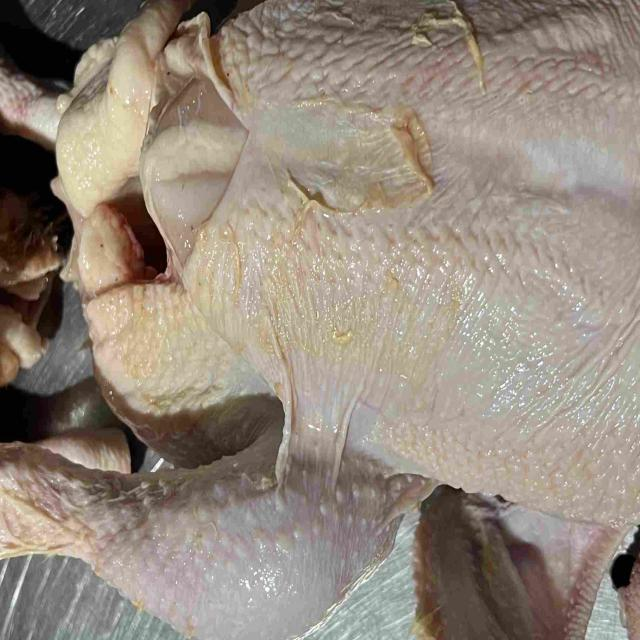breast: (145, 0, 640, 502)
leg: (0, 412, 404, 640)
wing: (415, 480, 629, 640)
